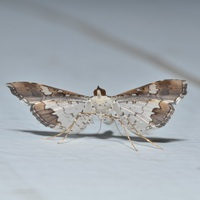insect: (7, 79, 186, 150)
